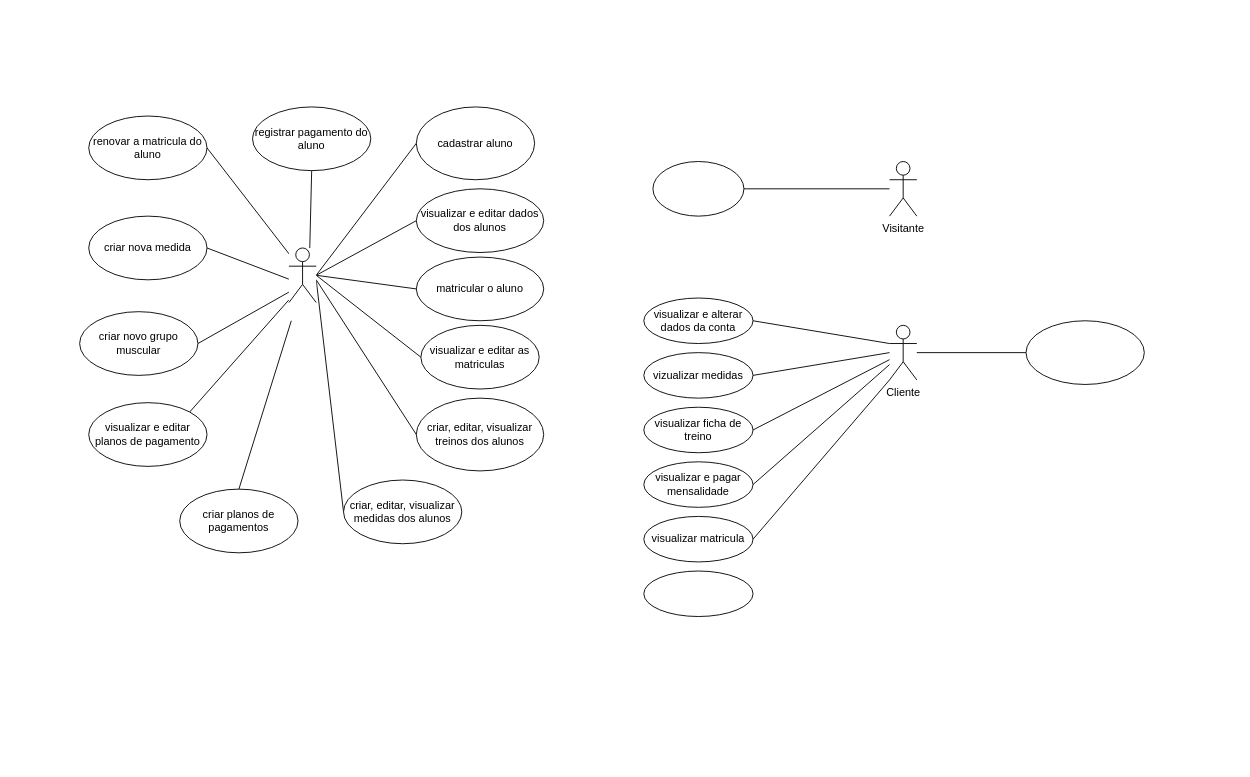
The diagram is 1250 pixels wide and 777 high, and some of its shapes have lost their labels. The shapes that lost their labels are listed below. From the top down, each one's box as (x1, y1, x2, y2) in pixels, then its label:
(652, 161, 744, 216): entrar na conta
(288, 247, 316, 303): adm
(1025, 320, 1144, 384): renovar a matricula
(643, 570, 753, 617): visualizar planos de pagamento
